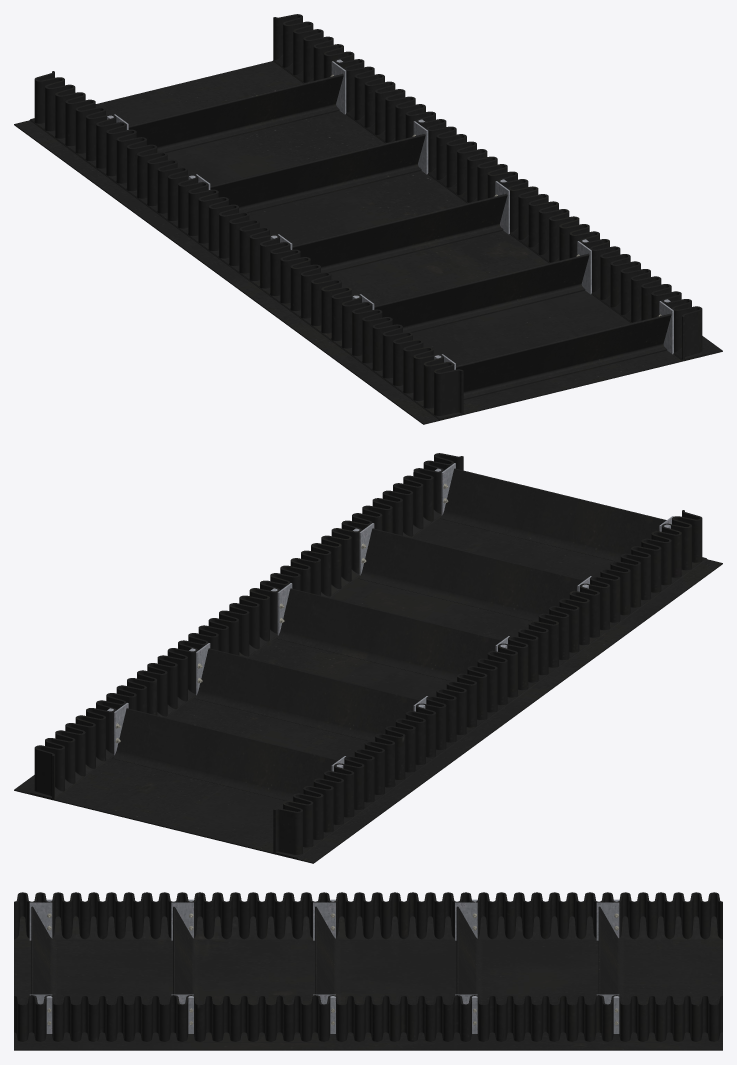
File: Corrugated.glb
3 views of the same model, one above another, from view 1: azimuth 30°, elevation 25°; view 2: azimuth 150°, elevation 25°; view 3: azimuth 270°, elevation 25° (orthographic). The views are drawn at different scales.
Parts seen in each view (by area): view 1: H89-SW51-P38-C.002, H89-SW51-P38-C.001, C-RUBBER-89.018, OUTER PLATE-C-H89.003; view 2: C-RUBBER-89.018, H89-SW51-P38-C.002, H89-SW51-P38-C.001, OUTER PLATE-C-H89.003; view 3: H89-SW51-P38-C.002, H89-SW51-P38-C.001, C-RUBBER-89.018, OUTER PLATE-C-H89.003, H89-SW51-P38-C_Flanged Hex Head Screws with Slotted Drive.06.
Boxes of the visible parts, box(x1,y1,x2,y2) form: H89-SW51-P38-C.002: box(29, 14, 706, 419); H89-SW51-P38-C.001: box(14, 61, 722, 424); C-RUBBER-89.018: box(128, 74, 671, 399); OUTER PLATE-C-H89.003: box(107, 59, 673, 369); C-RUBBER-89.018: box(112, 468, 666, 801); H89-SW51-P38-C.002: box(30, 453, 707, 858); H89-SW51-P38-C.001: box(14, 515, 722, 863); OUTER PLATE-C-H89.003: box(107, 463, 673, 771); H89-SW51-P38-C.002: box(14, 892, 722, 1042); H89-SW51-P38-C.001: box(14, 940, 722, 1050); C-RUBBER-89.018: box(31, 906, 624, 1004); OUTER PLATE-C-H89.003: box(29, 899, 619, 1033); H89-SW51-P38-C_Flanged Hex Head Screws with Slotted Drive.06: box(47, 913, 618, 1025).
Bounding box in the file's own units: 0.6419 × 0.091 × 1.52.
5 materials, 5 textured.
